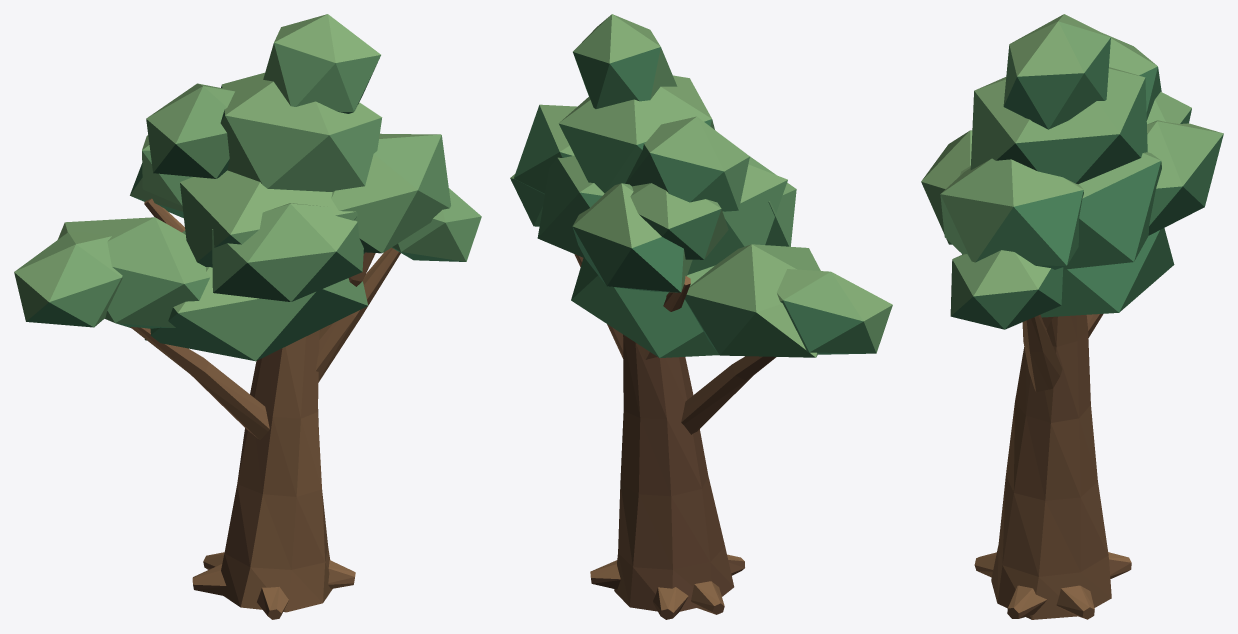
The picture shows the model from 3 angles, left to right: view 1: azimuth 30°, elevation 25°; view 2: azimuth 150°, elevation 25°; view 3: azimuth 270°, elevation 25°; orthographic projection. The views are drawn at different scales.
Parts seen in each view (by area): view 1: WK_RegularTree_DeepForest_LOD0_High; view 2: WK_RegularTree_DeepForest_LOD0_High; view 3: WK_RegularTree_DeepForest_LOD0_High.
Boxes of the visible parts, x1=… form: WK_RegularTree_DeepForest_LOD0_High: x1=14, y1=14, x2=481, y2=619; WK_RegularTree_DeepForest_LOD0_High: x1=510, y1=14, x2=892, y2=619; WK_RegularTree_DeepForest_LOD0_High: x1=921, y1=14, x2=1223, y2=619.
Bounding box in the file's own units: 4.7 × 6.37 × 2.9.
